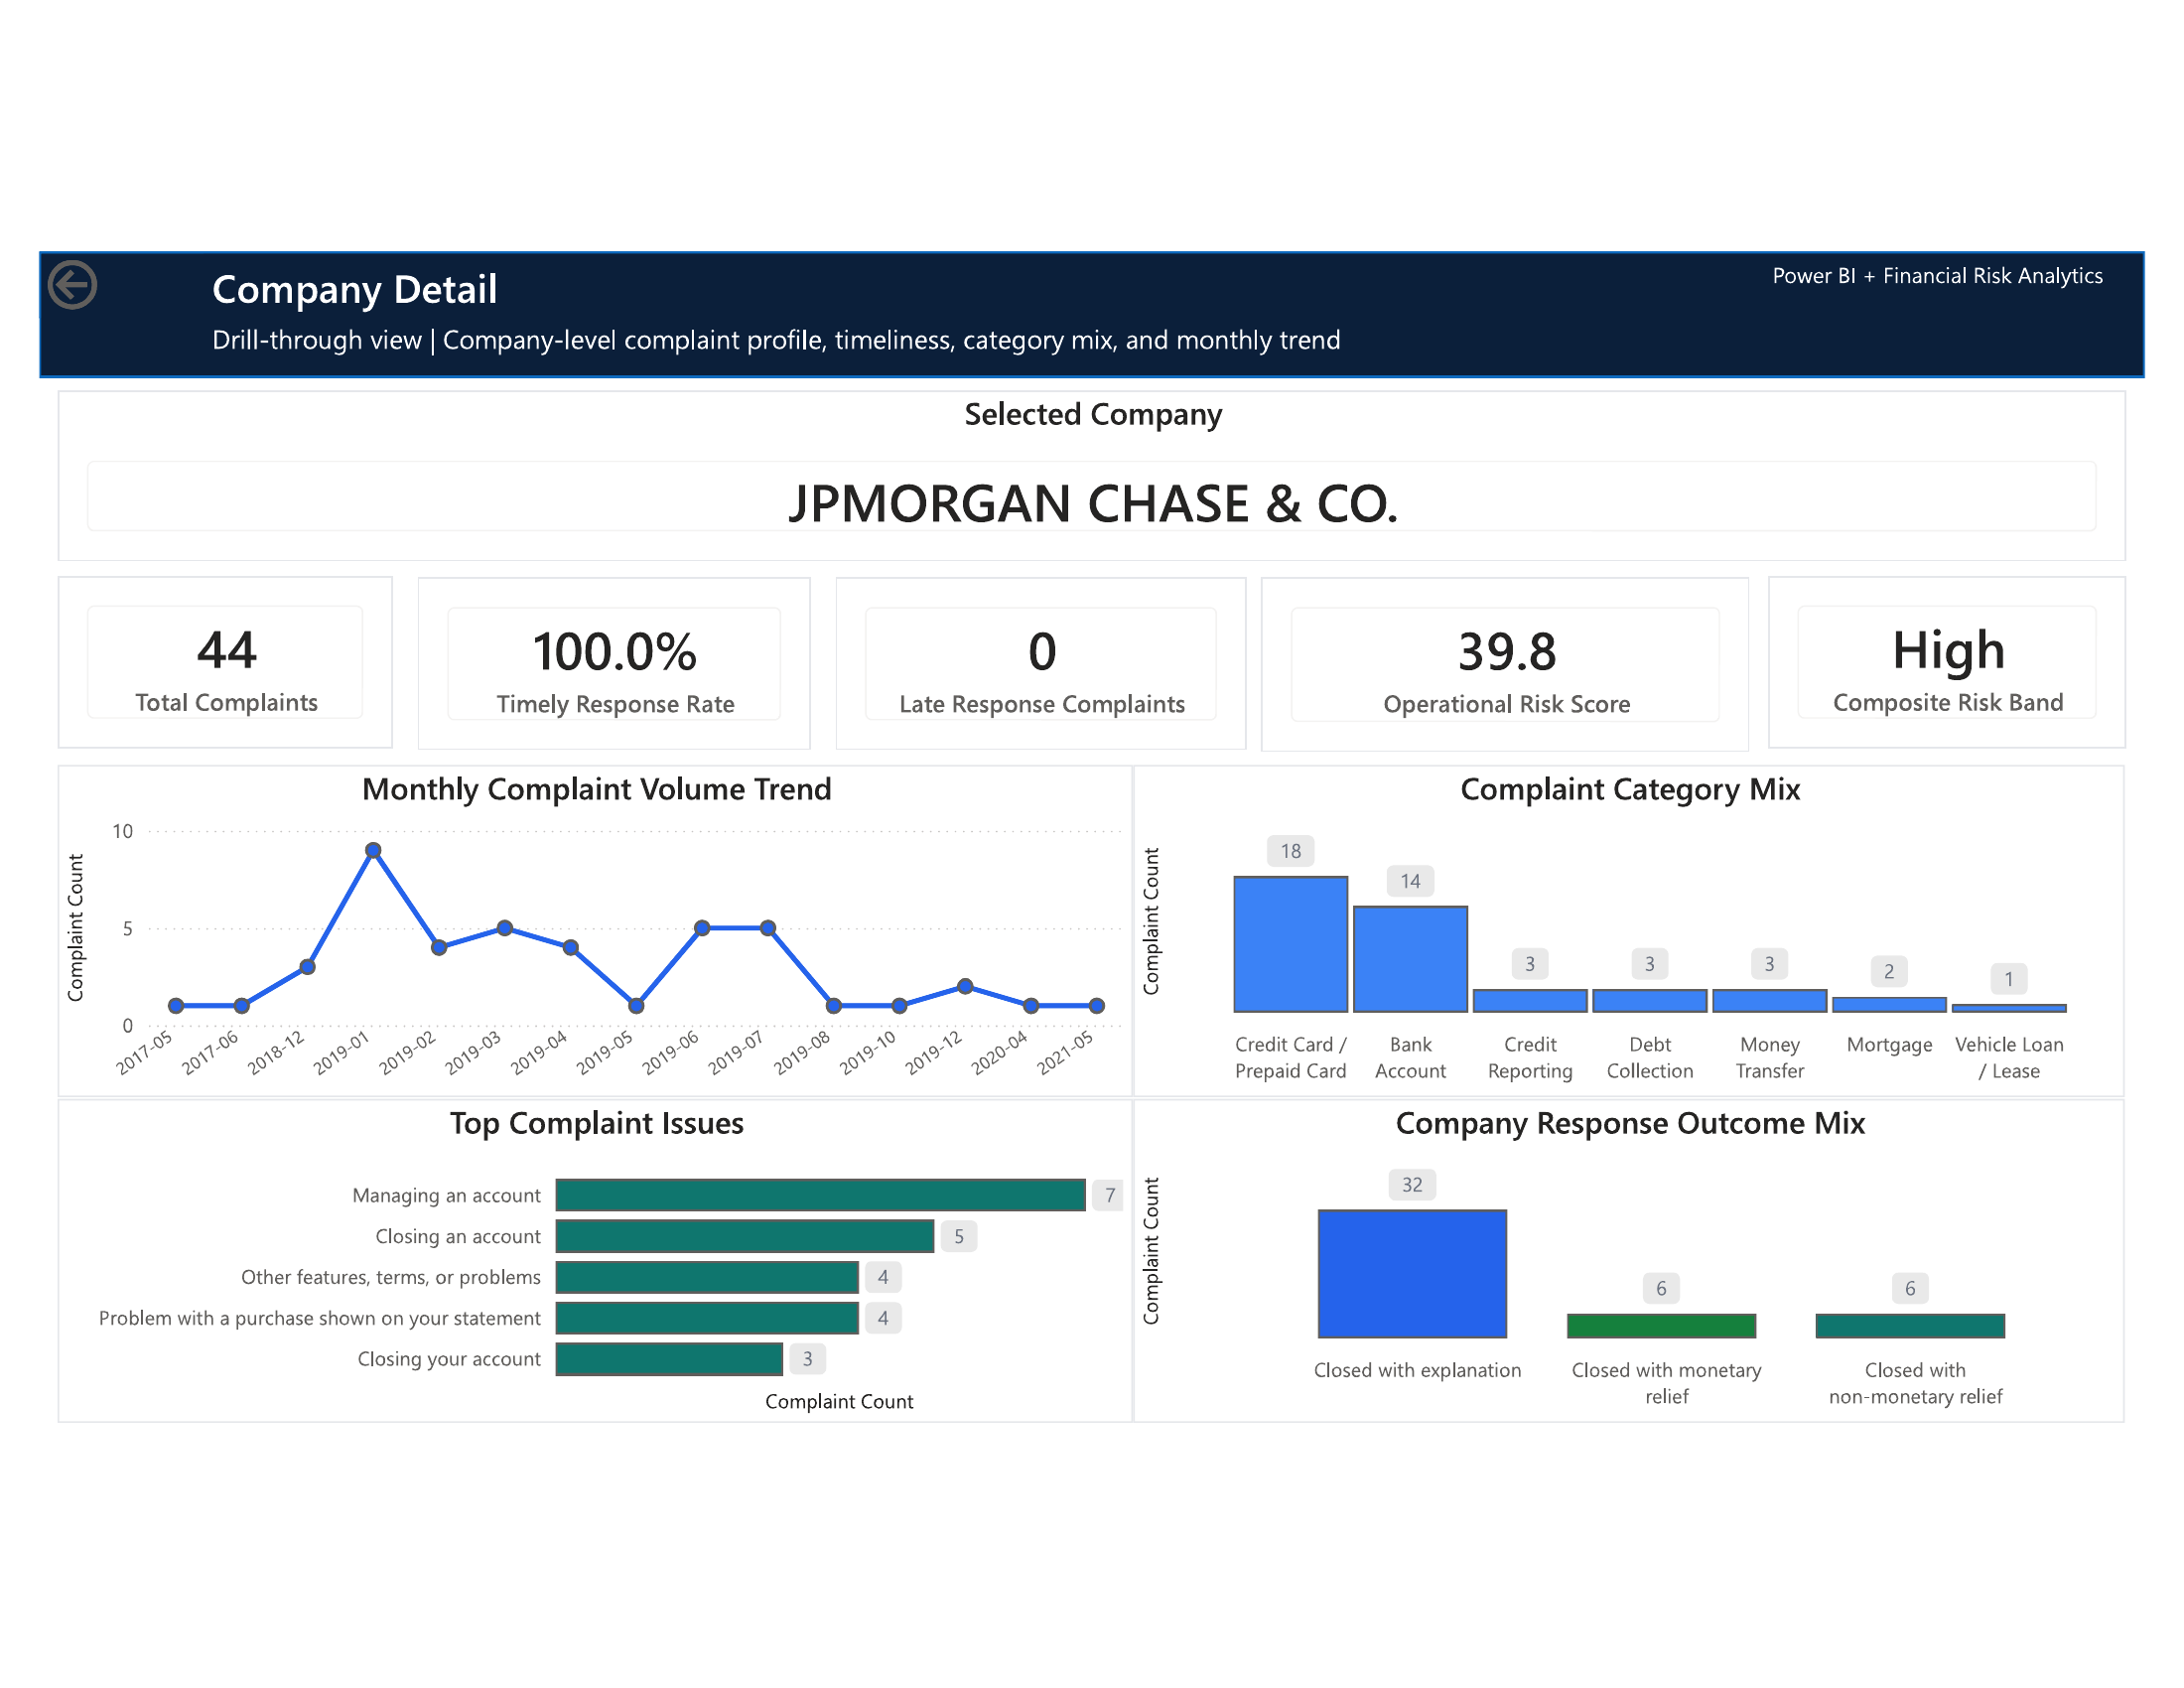

The dashboard page shown, as its layout file describes it:
{"tool":"powerbi","page":{"name":"Company Detail","canvas":[1280,720],"ordinal":3},"visuals":[{"type":"shape","box":[0,0,1280,76],"z":0},{"type":"actionButton","box":[0,0,100,40],"z":1000},{"type":"actionButton","box":[0,0,100,40],"z":2000},{"type":"textbox","box":[100.1,0,188.2,47.1],"z":3000},{"type":"textbox","box":[100.1,37.4,707,38.6],"z":4000},{"type":"textbox","box":[1040,0,229.2,37.4],"z":5000},{"type":"cardVisual","title":"Selected Company","fields":{"Data":["_Measures.Selected Company"]},"box":[10.9,84.5,1258.3,103.8],"z":6000},{"type":"cardVisual","fields":{"Data":["_Measures.Complaint Count"]},"box":[10.9,196.6,203.9,105],"z":7000},{"type":"cardVisual","fields":{"Data":["_Measures.Operational Risk Score"]},"box":[743.2,197.9,296.8,106.2],"z":8000},{"type":"cardVisual","fields":{"Data":["_Measures.Late Response Complaints Display"]},"box":[483.8,197.9,249.7,105],"z":9000},{"type":"cardVisual","fields":{"Data":["_Measures.Composite Risk Band"]},"box":[1050.8,196.6,218.4,105],"z":10000},{"type":"cardVisual","fields":{"Data":["_Measures.Timely Rate"]},"box":[230.4,197.9,238.9,105],"z":11000},{"type":"lineChart","title":"Monthly Complaint Volume Trend","fields":{"Category":["Dim_Date.Year Month"],"Y":["_Measures.Complaint Count"]},"box":[10.9,312.5,653.9,201.5],"z":12000},{"type":"clusteredColumnChart","title":"Complaint Category Mix","fields":{"Category":["Dim_Category.Complaint Category"],"Y":["_Measures.Complaint Count"]},"box":[664.7,312.5,603.2,201.5],"z":13000},{"type":"clusteredBarChart","title":"Top Complaint Issues","fields":{"Category":["Fact_Complaints.Issue"],"Y":["_Measures.Complaint Count"]},"box":[10.9,515.2,653.9,196.6],"z":14000},{"type":"clusteredColumnChart","title":"Company Response Outcome Mix","fields":{"Category":["Dim_Response.Response Outcome"],"Y":["_Measures.Complaint Count"]},"box":[664.7,515.2,603.2,196.6],"z":15000}]}

Visuals, with their boxes on the page's 1280x720 design canvas (x1, y1, x2, y2). These are canvas units, not pixel positions in the 2184x1688 screenshot, which may show the page scaled, cropped or inside an application window:
shape: <region>0, 0, 1280, 76</region>
actionButton: <region>0, 0, 100, 40</region>
actionButton: <region>0, 0, 100, 40</region>
textbox: <region>100, 0, 288, 47</region>
textbox: <region>100, 37, 807, 76</region>
textbox: <region>1040, 0, 1269, 37</region>
"Selected Company" cardVisual: <region>11, 84, 1269, 188</region>
cardVisual - _Measures.Complaint Count: <region>11, 197, 215, 302</region>
cardVisual - _Measures.Operational Risk Score: <region>743, 198, 1040, 304</region>
cardVisual - _Measures.Late Response Complaints Display: <region>484, 198, 734, 303</region>
cardVisual - _Measures.Composite Risk Band: <region>1051, 197, 1269, 302</region>
cardVisual - _Measures.Timely Rate: <region>230, 198, 469, 303</region>
"Monthly Complaint Volume Trend" lineChart: <region>11, 312, 665, 514</region>
"Complaint Category Mix" clusteredColumnChart: <region>665, 312, 1268, 514</region>
"Top Complaint Issues" clusteredBarChart: <region>11, 515, 665, 712</region>
"Company Response Outcome Mix" clusteredColumnChart: <region>665, 515, 1268, 712</region>
